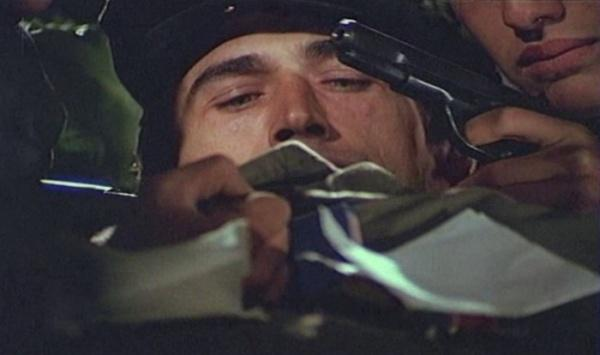Gun: (334, 16, 549, 164)
